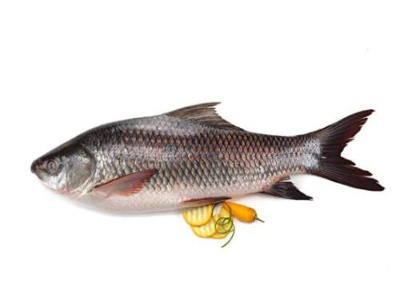rohu: (25, 93, 391, 237)
